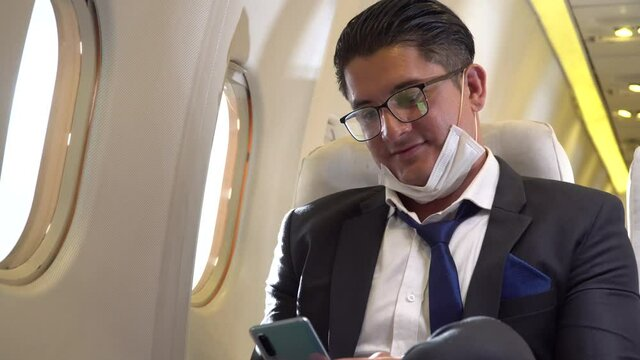mask_weared_incorrect: (330, 24, 490, 202)
